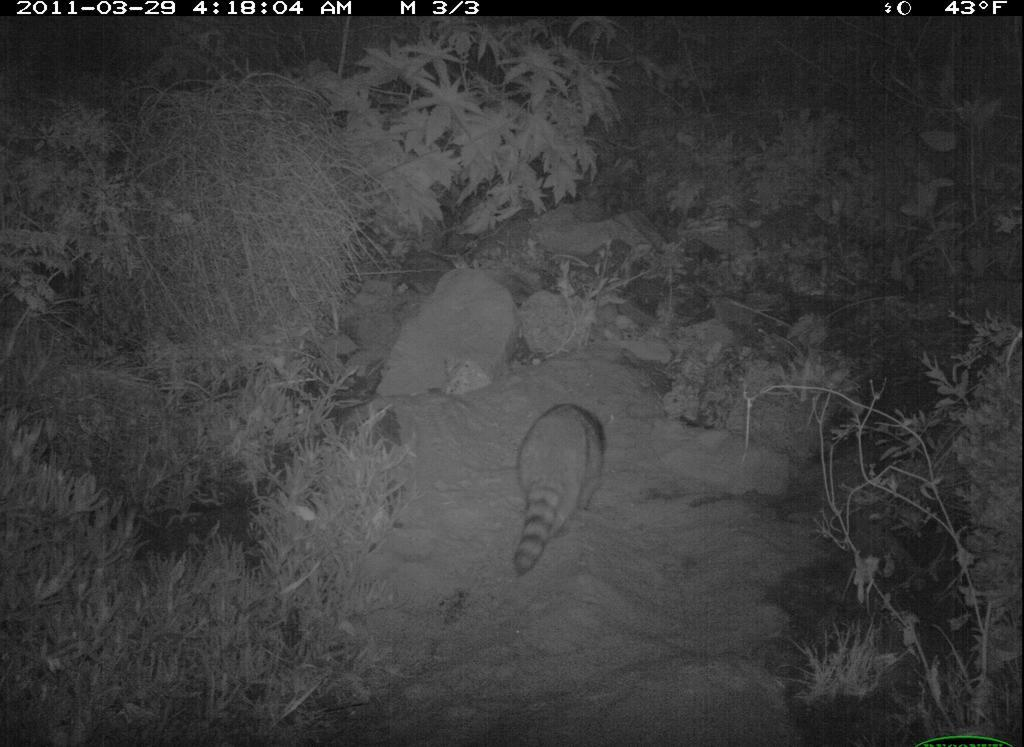raccoon: (505, 399, 612, 577)
